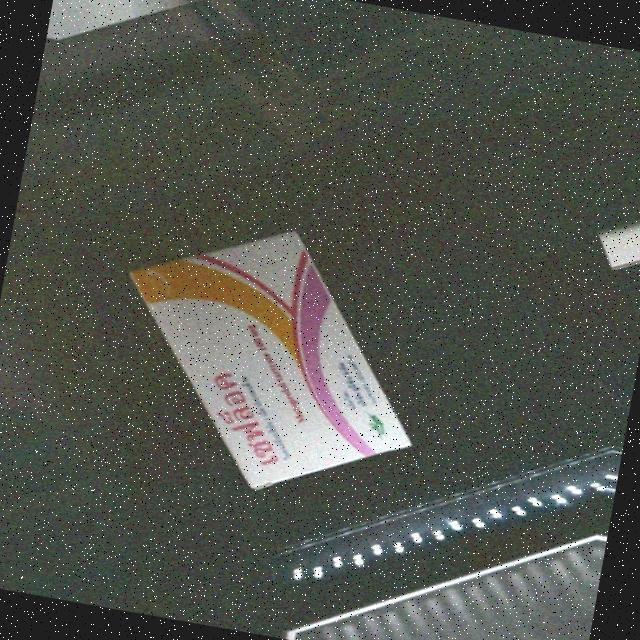sefloc: (95, 205, 440, 515)
